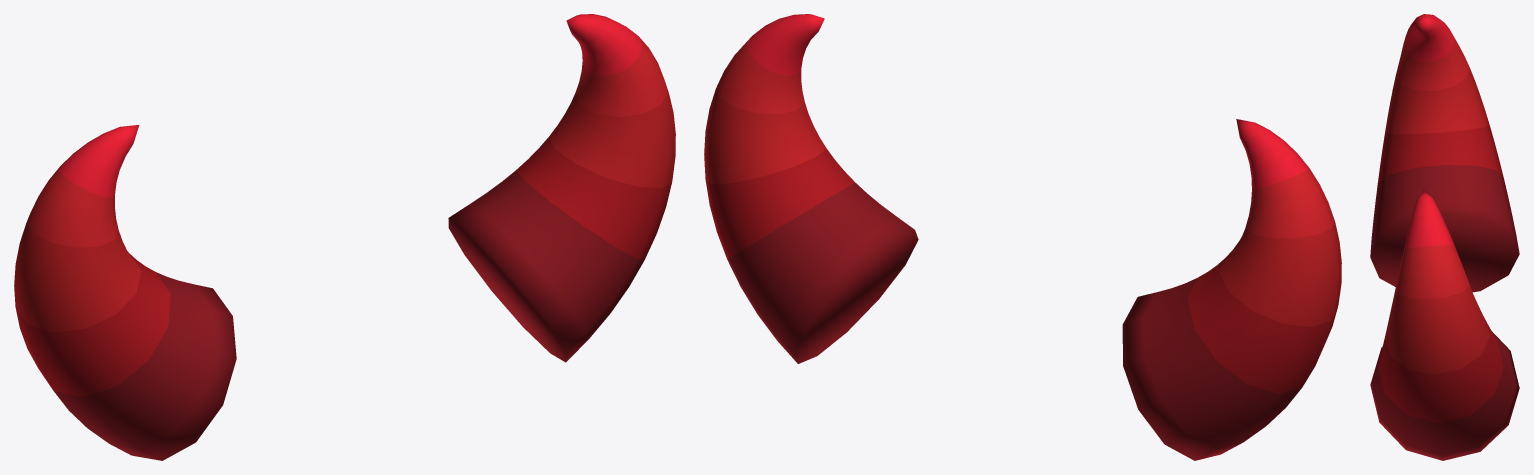
File: Acc_HornsR2.glb
The picture shows the model from 3 angles, left to right: view 1: azimuth 30°, elevation 25°; view 2: azimuth 150°, elevation 25°; view 3: azimuth 270°, elevation 25°; orthographic projection. The views are drawn at different scales.
Parts seen in each view (by area): view 1: HornsR2; view 2: HornsR2; view 3: HornsR2.
Part boxes in pixels (x1=…): HornsR2: x1=14, y1=14, x2=675, y2=460; HornsR2: x1=704, y1=14, x2=1341, y2=460; HornsR2: x1=1370, y1=14, x2=1519, y2=460.
Size of the model in its own units: 1.19 by 0.6032 by 0.2996.
Materials: 1 (1 with a texture image).
